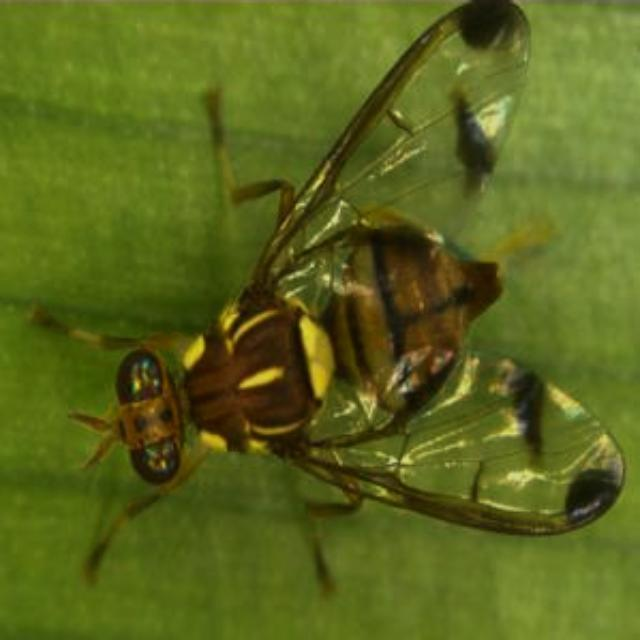melon fly: (31, 1, 635, 624)
